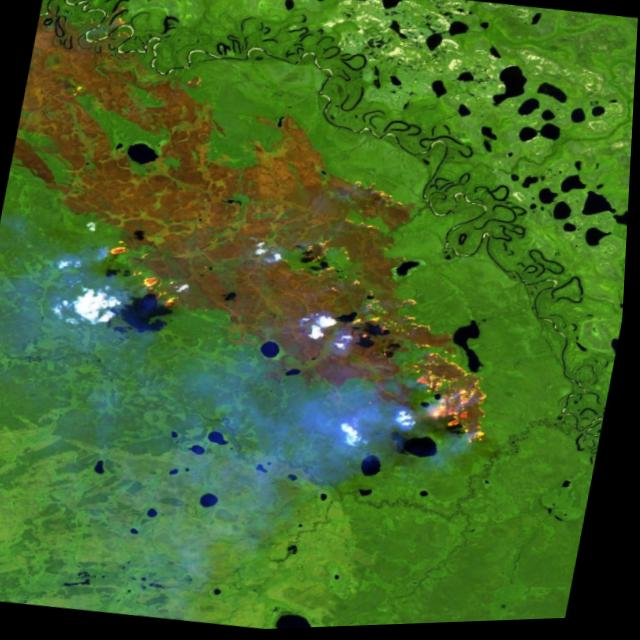fire: (0, 0, 567, 464)
